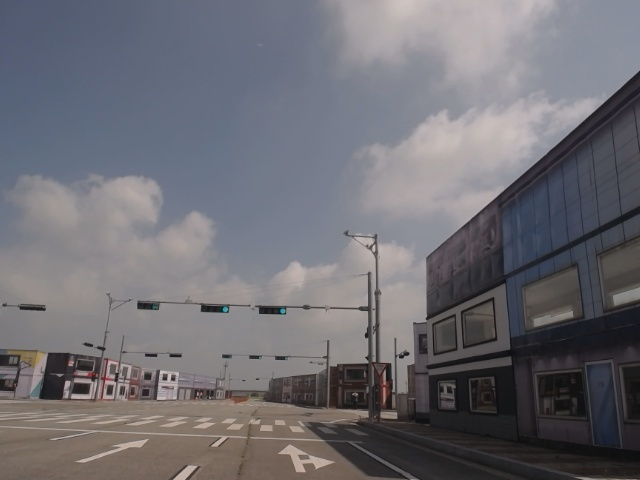straight_green_4: (201, 304, 231, 313), (258, 306, 286, 315)
